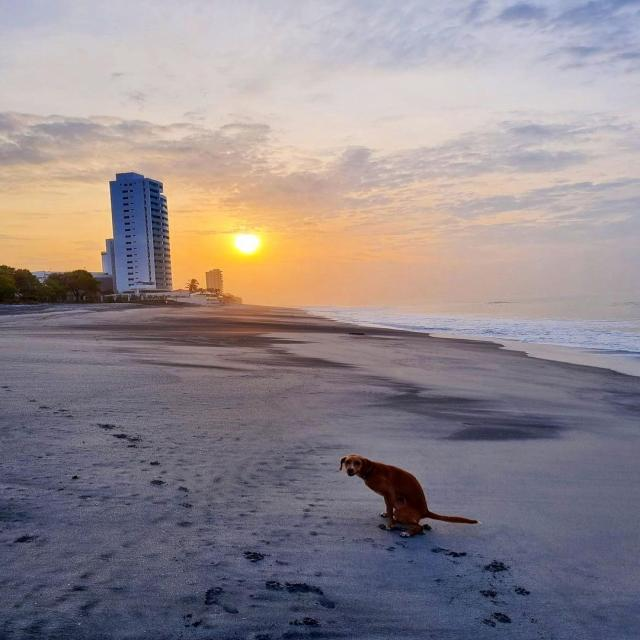squatting: (336, 453, 484, 540)
